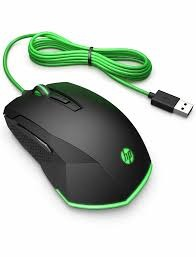mouse: (3, 79, 162, 220)
